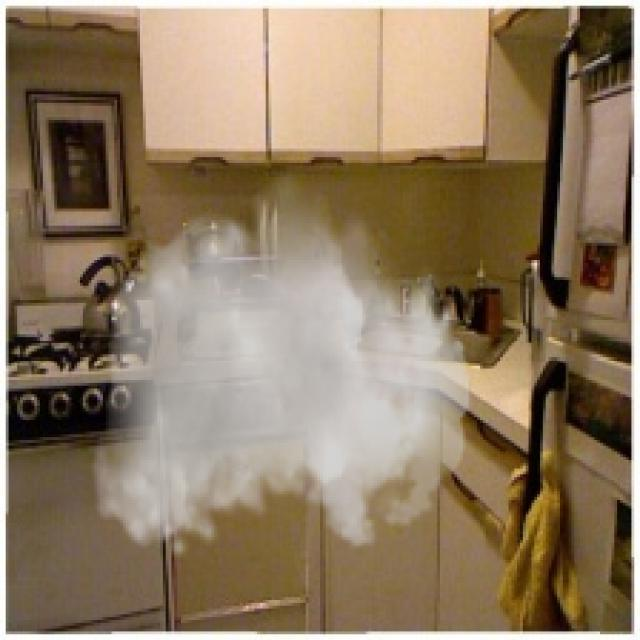Smoke: (91, 163, 472, 563)
